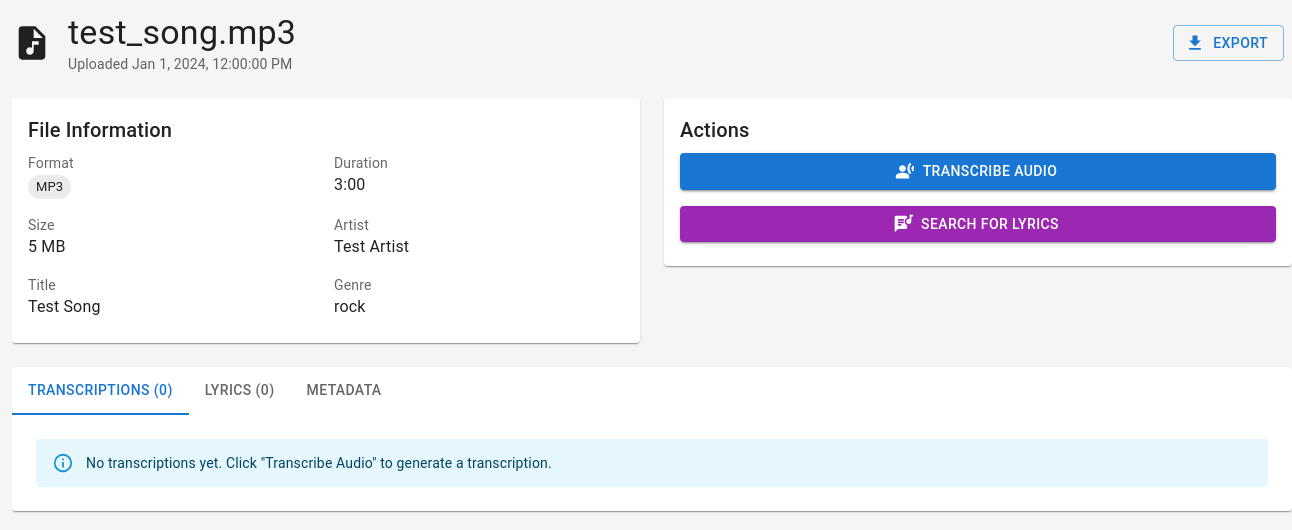
Test case: FileDetails Component › shows empty state for lyrics
What coordinates should you click on to do the following:
click the tab "Lyrics (0)"
I would click on:
 (240, 391)
Its box is left=189, top=367, right=291, bottom=415.
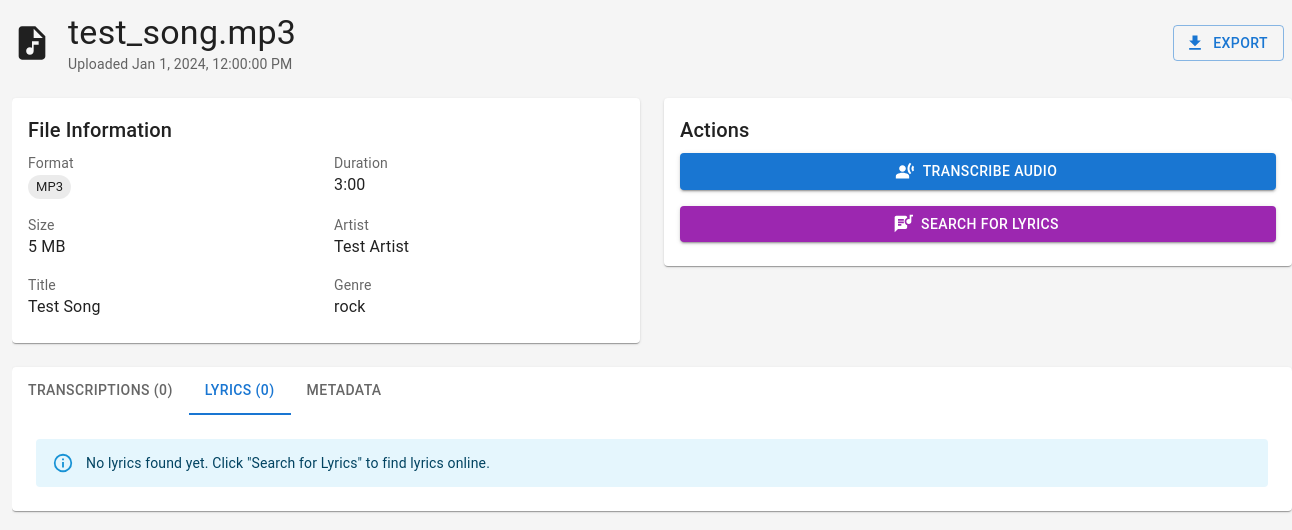
Result: the text "No lyrics found yet" is shown at left=86, top=455, right=490, bottom=471
